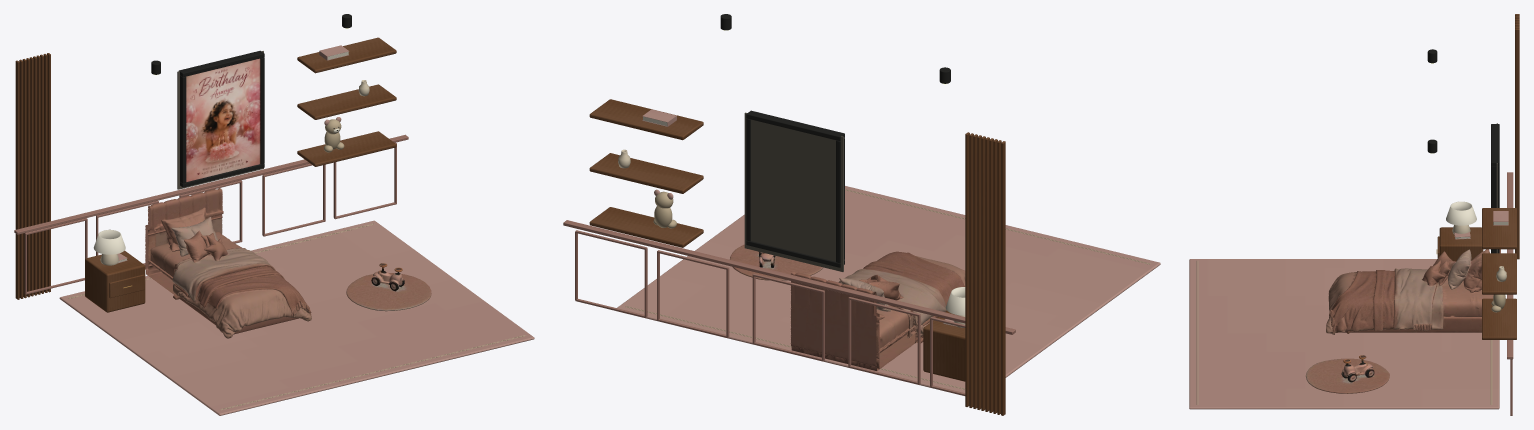
Rendered from room-3.glb.
3 renders of one model, left to right at view 1: azimuth 30°, elevation 25°; view 2: azimuth 150°, elevation 25°; view 3: azimuth 270°, elevation 25°, orthographic. The views are drawn at different scales.
Visible parts, largest first — view 1: STATIC_ROOM_04_CHILDHOOD_PBR_Woven_rose, STATIC_ROOM_04_CHILDHOOD_MESHY_PBR_Kids_Room, STATIC_ROOM_04_CHILDHOOD_PBR_American_Walnut, ART_04_CHILDHOOD, STATIC_ROOM_04_CHILDHOOD_PBR_Limewash_rose, STATIC_ROOM_04_CHILDHOOD_PBR_Blackened_Steel, STATIC_ROOM_04_CHILDHOOD_PBR_Woven_oatmeal, STATIC_ROOM_04_CHILDHOOD_PBR_Woven_ivory, FRAME_04_CHILDHOOD_SHADOW; view 2: STATIC_ROOM_04_CHILDHOOD_PBR_Woven_rose, STATIC_ROOM_04_CHILDHOOD_PBR_American_Walnut, STATIC_ROOM_04_CHILDHOOD_MESHY_PBR_Kids_Room, FRAME_04_CHILDHOOD_SHADOW, STATIC_ROOM_04_CHILDHOOD_PBR_Limewash_rose, STATIC_ROOM_04_CHILDHOOD_PBR_Blackened_Steel, STATIC_ROOM_04_CHILDHOOD_PBR_Woven_oatmeal; view 3: STATIC_ROOM_04_CHILDHOOD_PBR_Woven_rose, STATIC_ROOM_04_CHILDHOOD_MESHY_PBR_Kids_Room, STATIC_ROOM_04_CHILDHOOD_PBR_American_Walnut, STATIC_ROOM_04_CHILDHOOD_PBR_Blackened_Steel, STATIC_ROOM_04_CHILDHOOD_PBR_Woven_oatmeal, STATIC_ROOM_04_CHILDHOOD_PBR_Limewash_rose, STATIC_ROOM_04_CHILDHOOD_PBR_Woven_ivory.
Part boxes in pixels (left/top/right/bottom): STATIC_ROOM_04_CHILDHOOD_PBR_Woven_rose: left=59, top=45, right=534, bottom=415; STATIC_ROOM_04_CHILDHOOD_MESHY_PBR_Kids_Room: left=145, top=188, right=431, bottom=338; STATIC_ROOM_04_CHILDHOOD_PBR_American_Walnut: left=15, top=37, right=396, bottom=312; ART_04_CHILDHOOD: left=186, top=58, right=260, bottom=181; STATIC_ROOM_04_CHILDHOOD_PBR_Limewash_rose: left=14, top=134, right=408, bottom=294; STATIC_ROOM_04_CHILDHOOD_PBR_Blackened_Steel: left=151, top=14, right=351, bottom=187; STATIC_ROOM_04_CHILDHOOD_PBR_Woven_oatmeal: left=68, top=119, right=525, bottom=410; STATIC_ROOM_04_CHILDHOOD_PBR_Woven_ivory: left=93, top=128, right=339, bottom=254; FRAME_04_CHILDHOOD_SHADOW: left=177, top=51, right=263, bottom=189; STATIC_ROOM_04_CHILDHOOD_PBR_Woven_rose: left=617, top=109, right=1160, bottom=395; STATIC_ROOM_04_CHILDHOOD_PBR_American_Walnut: left=589, top=99, right=1005, bottom=415; STATIC_ROOM_04_CHILDHOOD_MESHY_PBR_Kids_Room: left=730, top=244, right=965, bottom=370; FRAME_04_CHILDHOOD_SHADOW: left=744, top=112, right=843, bottom=271; STATIC_ROOM_04_CHILDHOOD_PBR_Limewash_rose: left=563, top=220, right=1015, bottom=395; STATIC_ROOM_04_CHILDHOOD_PBR_Blackened_Steel: left=720, top=14, right=950, bottom=267; STATIC_ROOM_04_CHILDHOOD_PBR_Woven_oatmeal: left=626, top=189, right=1150, bottom=389; STATIC_ROOM_04_CHILDHOOD_PBR_Woven_rose: left=1189, top=211, right=1508, bottom=409; STATIC_ROOM_04_CHILDHOOD_MESHY_PBR_Kids_Room: left=1305, top=249, right=1500, bottom=393; STATIC_ROOM_04_CHILDHOOD_PBR_American_Walnut: left=1437, top=14, right=1519, bottom=339; STATIC_ROOM_04_CHILDHOOD_PBR_Blackened_Steel: left=1427, top=49, right=1499, bottom=253; STATIC_ROOM_04_CHILDHOOD_PBR_Woven_oatmeal: left=1196, top=261, right=1505, bottom=404; STATIC_ROOM_04_CHILDHOOD_PBR_Limewash_rose: left=1507, top=172, right=1513, bottom=415; STATIC_ROOM_04_CHILDHOOD_PBR_Woven_ivory: left=1446, top=201, right=1476, bottom=225.
Bounding box in the file's own units: 6.2 × 3.74 × 4.69.
13 materials, 7 textured.
